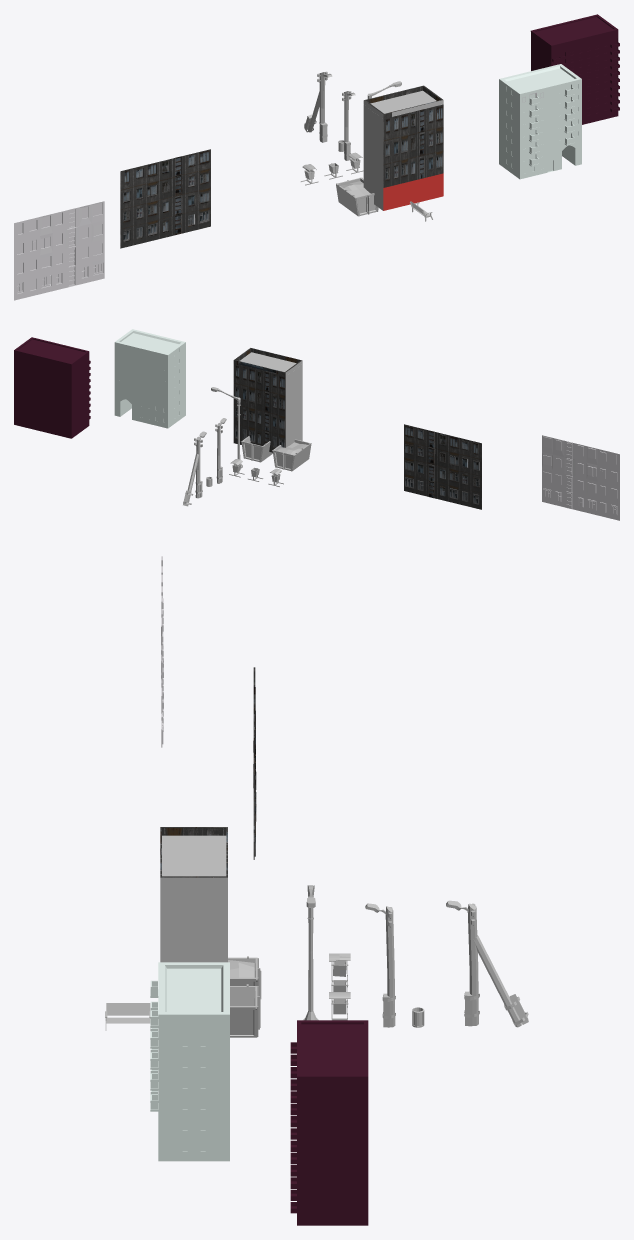
The model's file is bAKE.fbx.
The picture shows the model from 3 angles, top to bottom: view 1: azimuth 30°, elevation 25°; view 2: azimuth 150°, elevation 25°; view 3: azimuth 270°, elevation 25°; orthographic projection. The views are drawn at different scales.
Visible parts, largest first — view 1: Куб.008, building_041.001, Плоскость.001, Плоскость.002, building_041, Куб.007; view 2: building_041, Куб.008, building_041.001, Плоскость.001, Плоскость.002, Куб.007, Куб.006, Цилиндр; view 3: building_041, building_041.001, Куб.008, Куб.006, Цилиндр.007, Куб.010.
Boxes of the visible parts, x1,y1,x2,y2 form: Куб.008: [363, 85, 443, 210]; building_041.001: [499, 64, 581, 179]; Плоскость.001: [120, 149, 210, 248]; Плоскость.002: [14, 201, 104, 300]; building_041: [530, 14, 619, 124]; Куб.007: [336, 177, 378, 216]; building_041: [14, 337, 90, 438]; Куб.008: [233, 348, 302, 452]; building_041.001: [114, 329, 185, 428]; Плоскость.001: [404, 424, 481, 509]; Плоскость.002: [542, 435, 619, 520]; Куб.007: [272, 439, 311, 471]; Куб.006: [240, 436, 272, 462]; Цилиндр: [211, 387, 242, 468]; building_041: [290, 1020, 368, 1225]; building_041.001: [150, 962, 229, 1161]; Куб.008: [160, 827, 227, 962]; Куб.006: [230, 984, 260, 1037]; Цилиндр.007: [467, 903, 478, 1025]; Куб.010: [105, 1003, 150, 1030].
Bounding box in the file's own units: 197 × 30.47 × 65.19.
